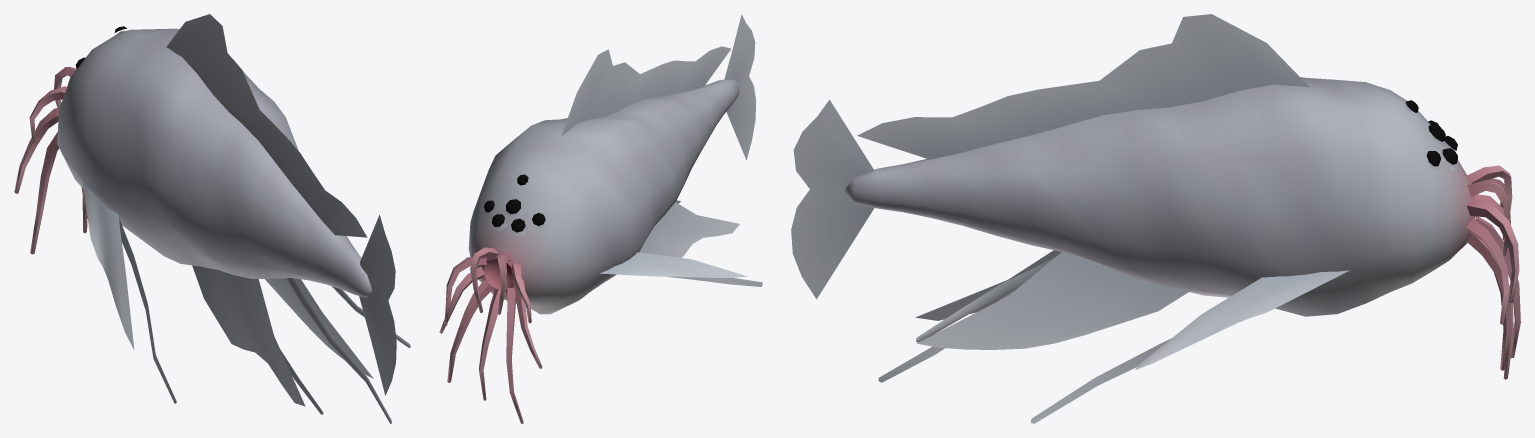
The model's file is deep_spawn_game.glb.
The picture shows the model from 3 angles, left to right: view 1: azimuth 30°, elevation 25°; view 2: azimuth 150°, elevation 25°; view 3: azimuth 270°, elevation 25°; orthographic projection. The views are drawn at different scales.
Visible parts, largest first — view 1: deep_spawn_game; view 2: deep_spawn_game; view 3: deep_spawn_game.
Boxes of the visible parts, <box> form: deep_spawn_game: <box>14,14,410,423</box>; deep_spawn_game: <box>439,14,762,423</box>; deep_spawn_game: <box>791,14,1520,423</box>.
Bounding box in the file's own units: 0.6976 × 0.8838 × 1.59.
